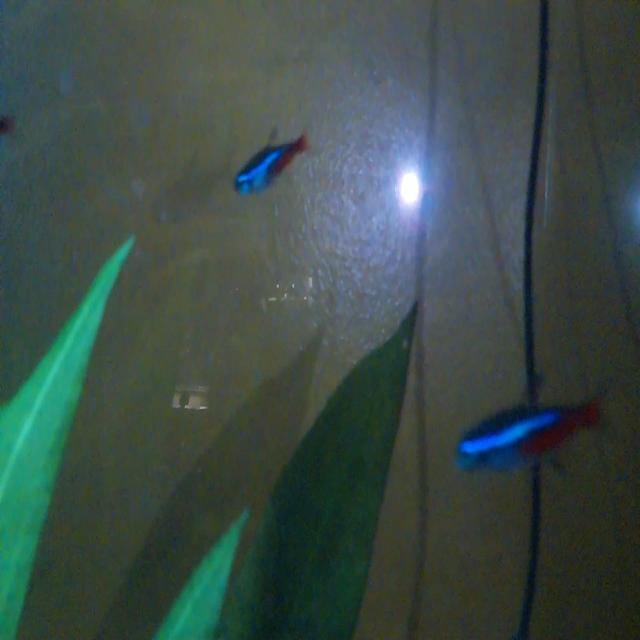fish: (445, 368, 611, 481), (220, 123, 318, 203)
